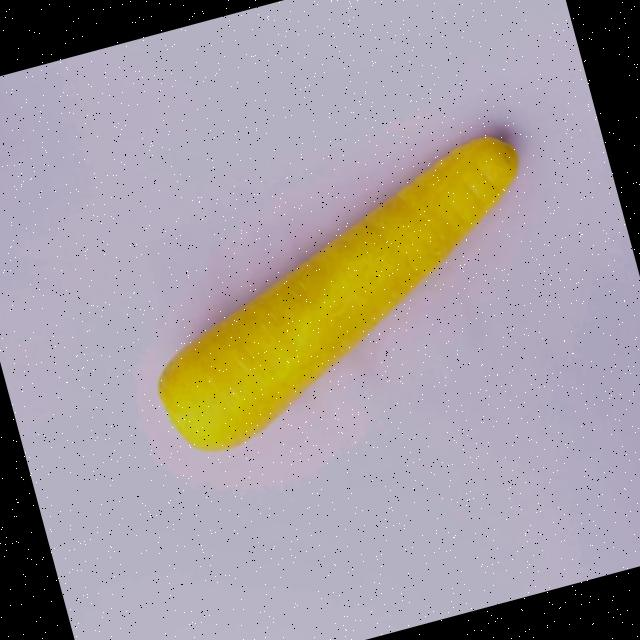carrot: (158, 135, 516, 450)
